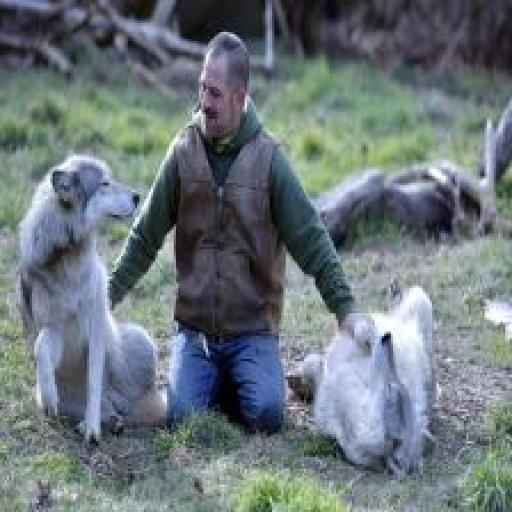wolf: (11, 126, 176, 442), (281, 276, 455, 478)
